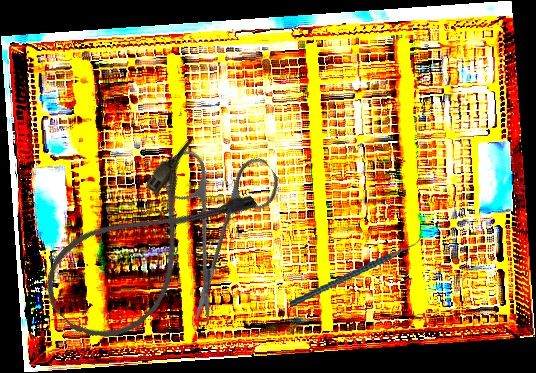Cannula: (29, 131, 263, 360)
Chopper: (282, 230, 430, 308)
Iris Scissors: (110, 114, 322, 326)
